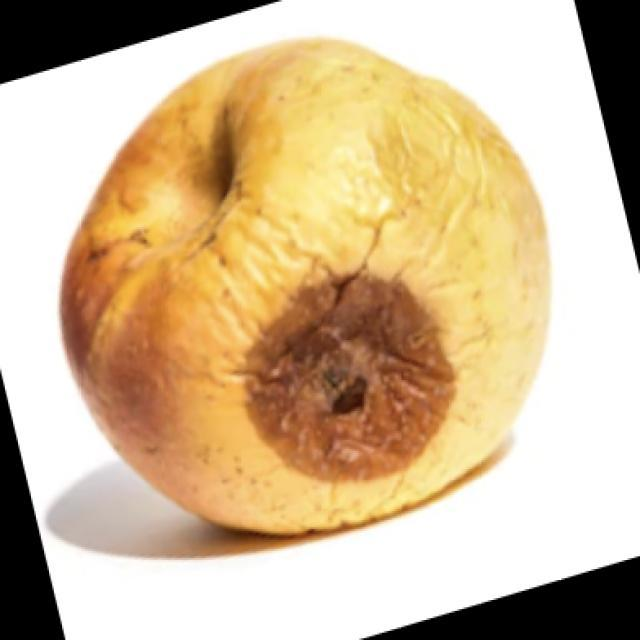Rotten: (59, 36, 534, 542)
